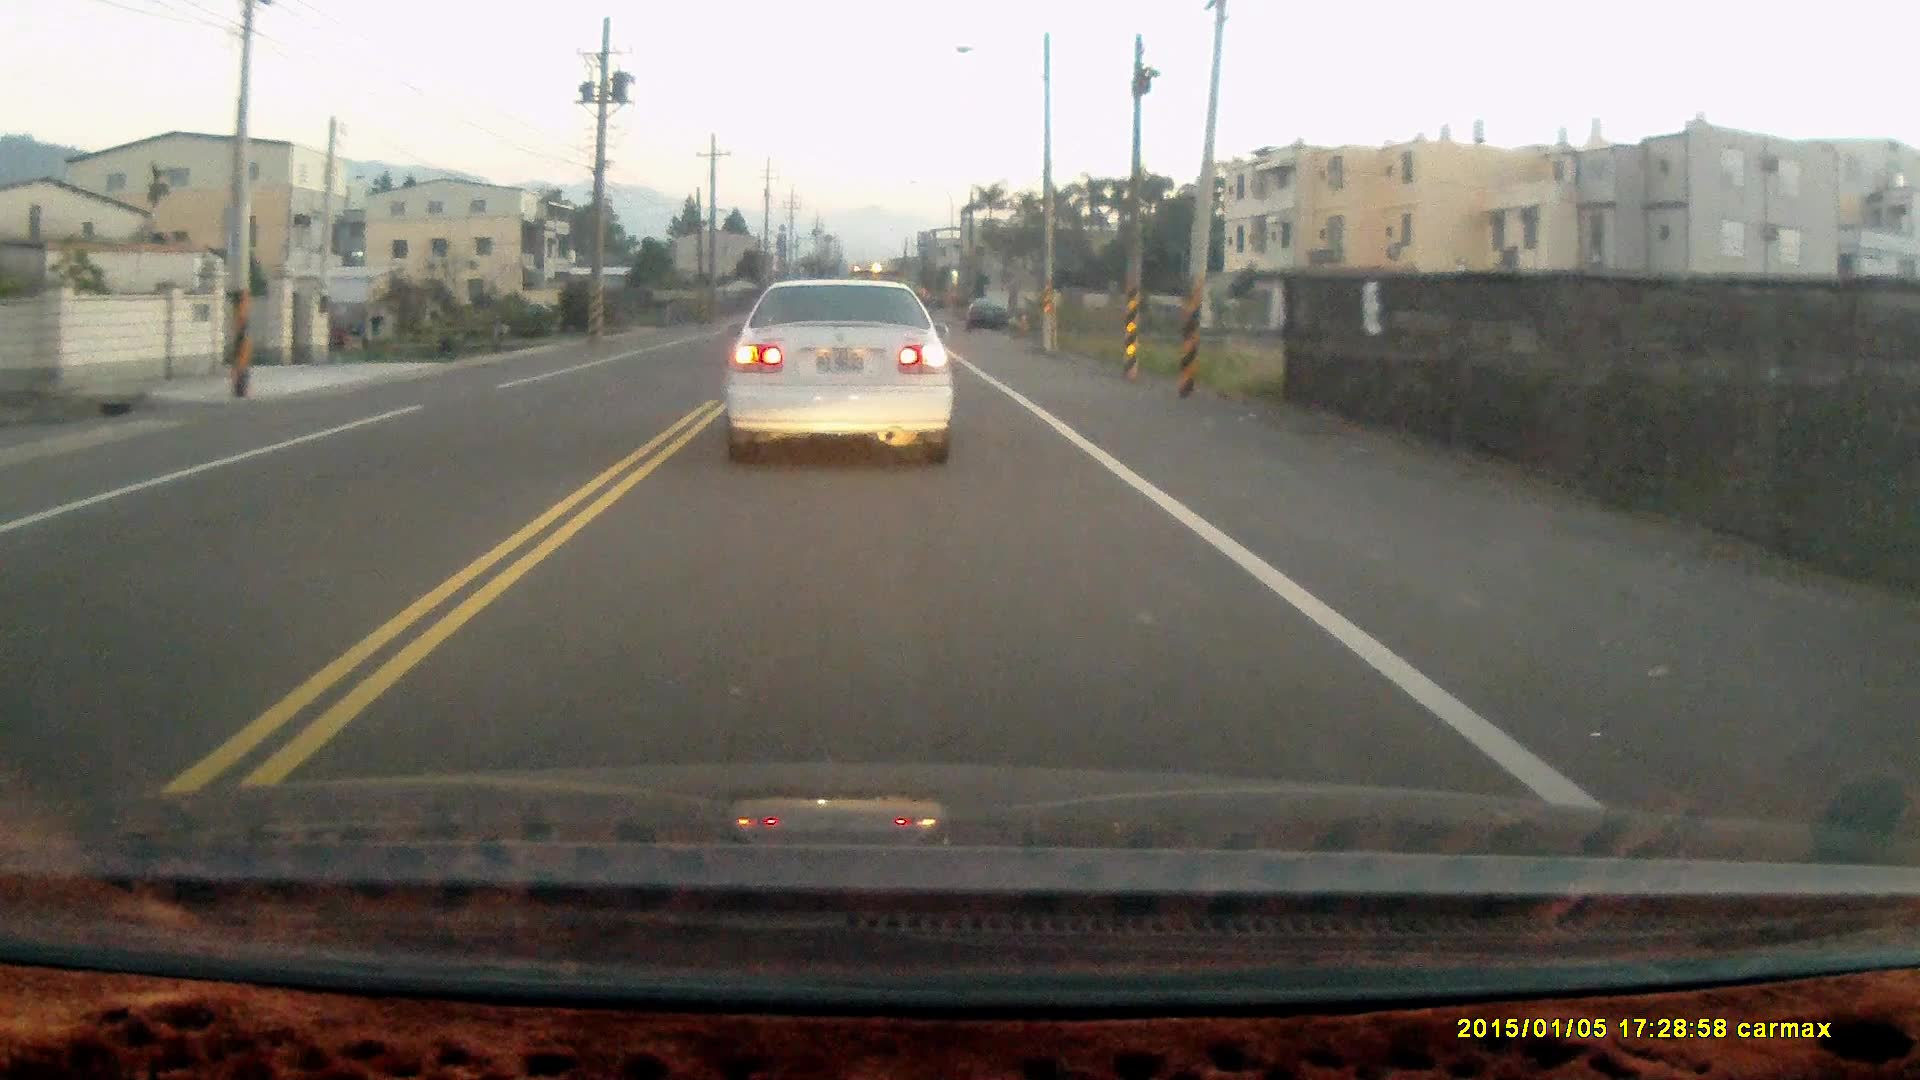vehicle: (727, 281, 960, 473), (967, 297, 1011, 336)
